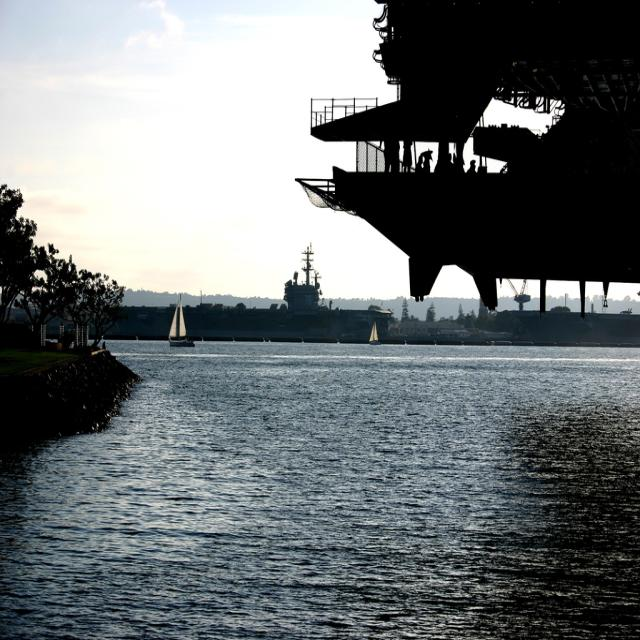Boat: (164, 291, 195, 351), (369, 322, 381, 350)
